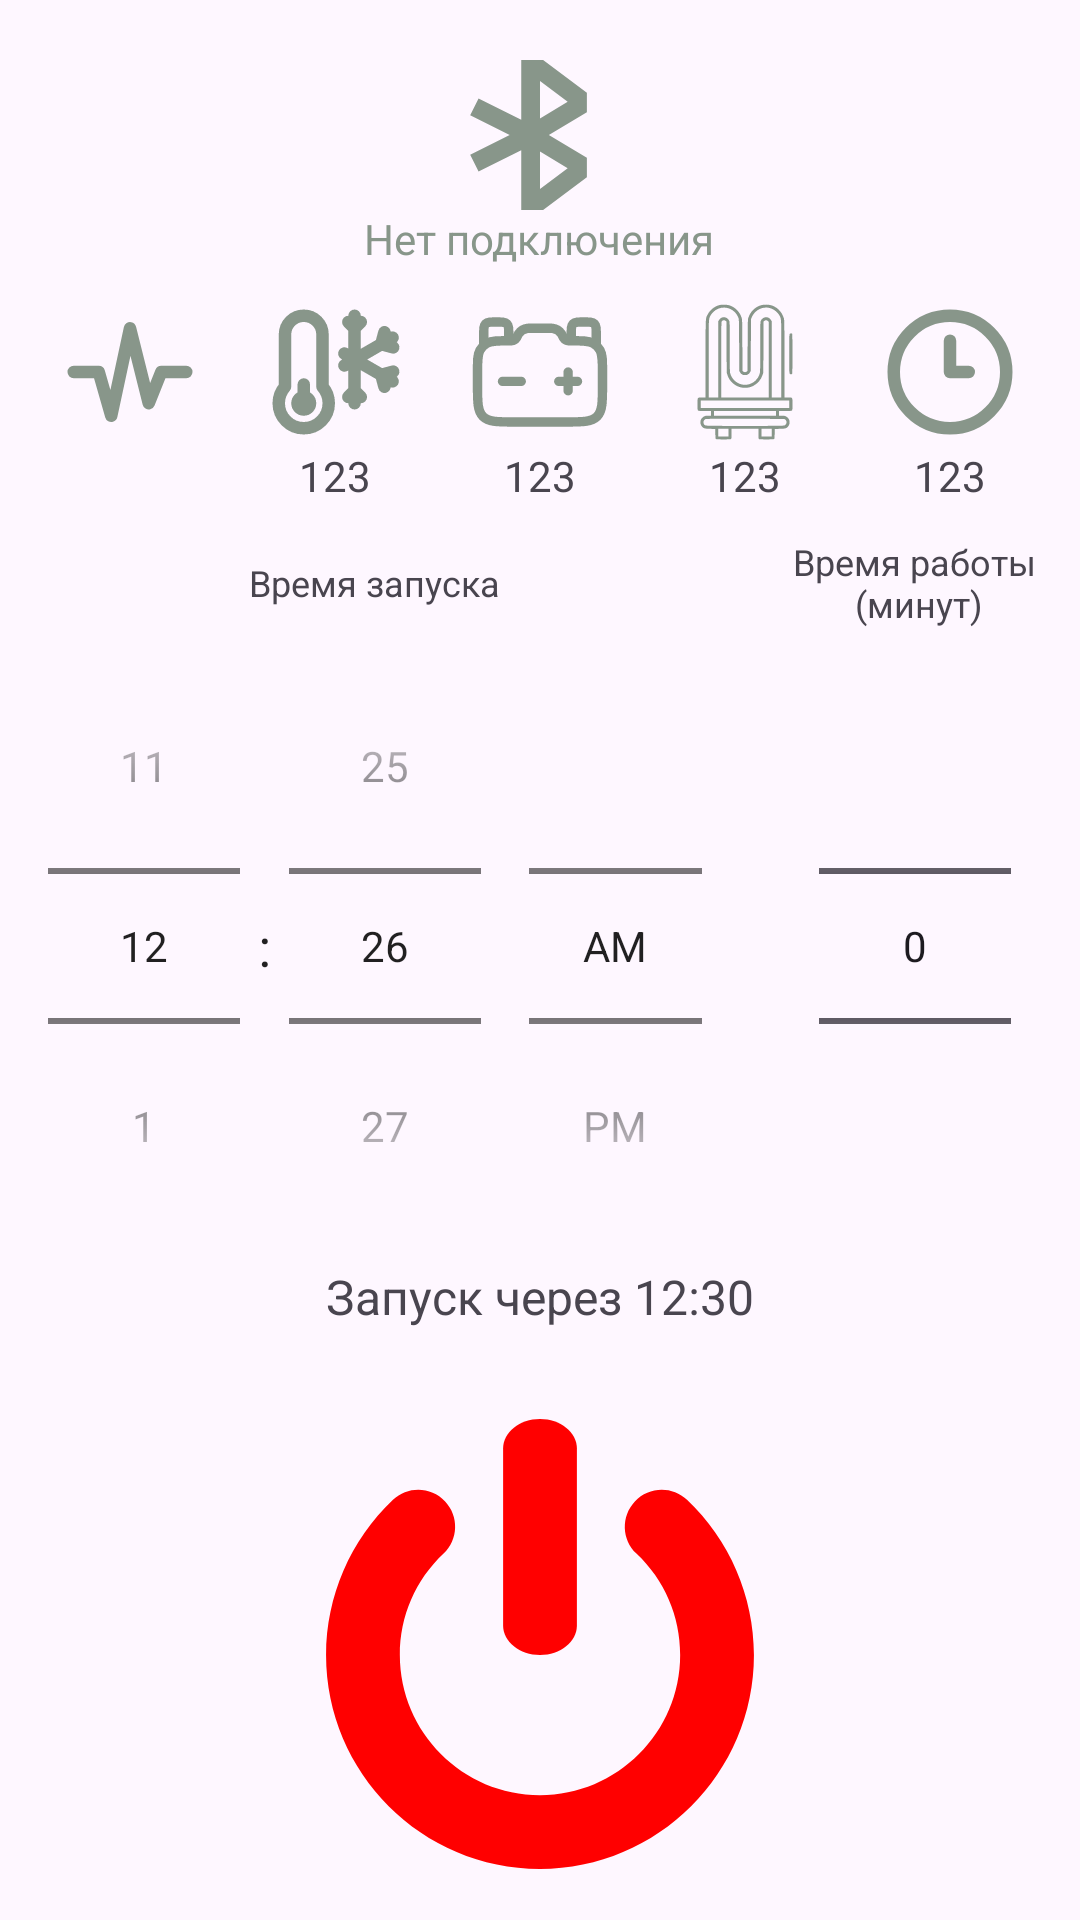

Named icons in this screenshot (1080w x 1920h) and their centers, (x=x, y=y):
accumulator: (x=540, y=372)
clock three: (x=950, y=372)
heater: (x=745, y=372)
temperature snow: (x=336, y=372)
wave pulse: (x=130, y=372)
